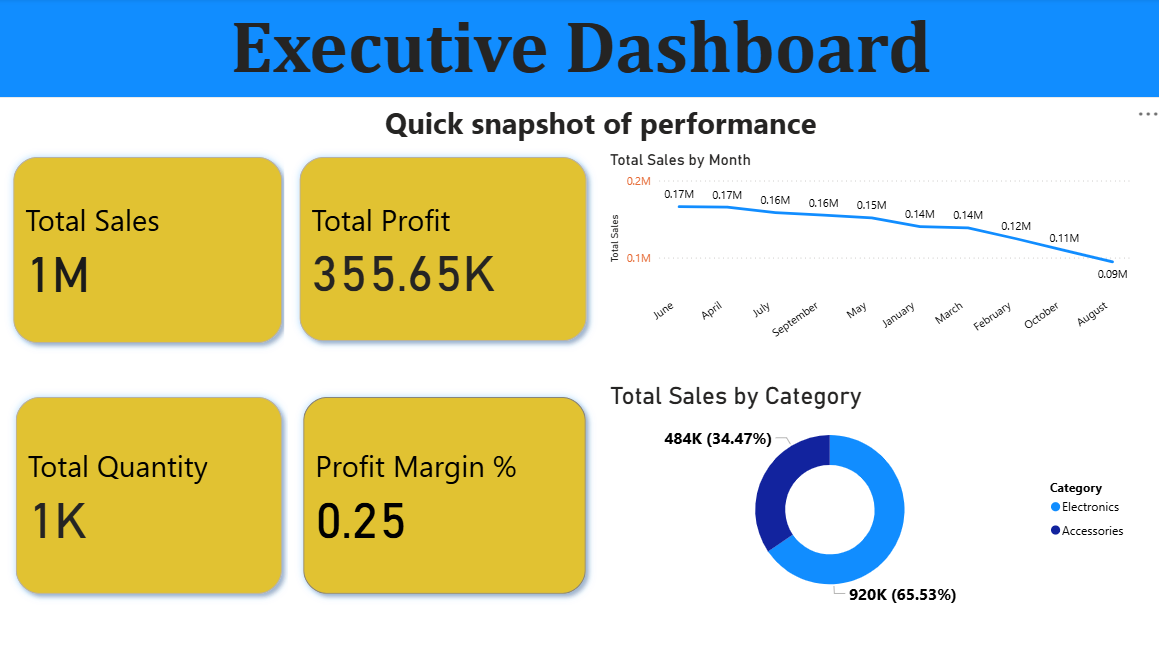

What the dashboard file says about the page in this screenshot:
{"tool":"powerbi","page":{"name":"Page 1","canvas":[1280,720],"ordinal":0},"visuals":[{"type":"textbox","box":[0,0,1280,109.8],"z":0},{"type":"cardVisual","fields":{"Data":["Sales_Data.Total Sales"]},"box":[0,158.2,329.3,238],"z":1000},{"type":"textbox","box":[404.8,109.8,492.6,60.4],"z":2000},{"type":"cardVisual","fields":{"Data":["Sales_Data.Total Profit"]},"box":[313.6,158.2,349.2,236.6],"z":3000},{"type":"cardVisual","fields":{"Data":["Sales_Data.Total Quantity"]},"box":[2.9,421.9,326.4,250.9],"z":4000},{"type":"cardVisual","fields":{"Data":["Sales_Data.Profit Margin %"]},"box":[317.9,421.9,344.9,250.9],"z":5000},{"type":"lineChart","fields":{"Category":["DateTable.MonthName"],"Y":["Sales_Data.Total Sales"]},"box":[666.9,170.2,583.2,227.8],"z":6000},{"type":"donutChart","fields":{"Category":["Sales_Data.Category"],"Y":["Sales_Data.Total Sales"]},"box":[667.1,421.9,583,250.9],"z":7000}]}

Visuals, with their boxes in screenshot pixels (x1, y1, x2, y2), scaled from the page's 1280x720 canvas onto the 1159x653 screenshot:
textbox: locate(0, 0, 1158, 100)
cardVisual - Sales_Data.Total Sales: locate(0, 143, 298, 359)
textbox: locate(367, 100, 813, 154)
cardVisual - Sales_Data.Total Profit: locate(284, 143, 600, 358)
cardVisual - Sales_Data.Total Quantity: locate(3, 383, 298, 610)
cardVisual - Sales_Data.Profit Margin %: locate(288, 383, 600, 610)
lineChart - DateTable.MonthName x Sales_Data.Total Sales: locate(604, 154, 1132, 361)
donutChart - Sales_Data.Category x Sales_Data.Total Sales: locate(604, 383, 1132, 610)
